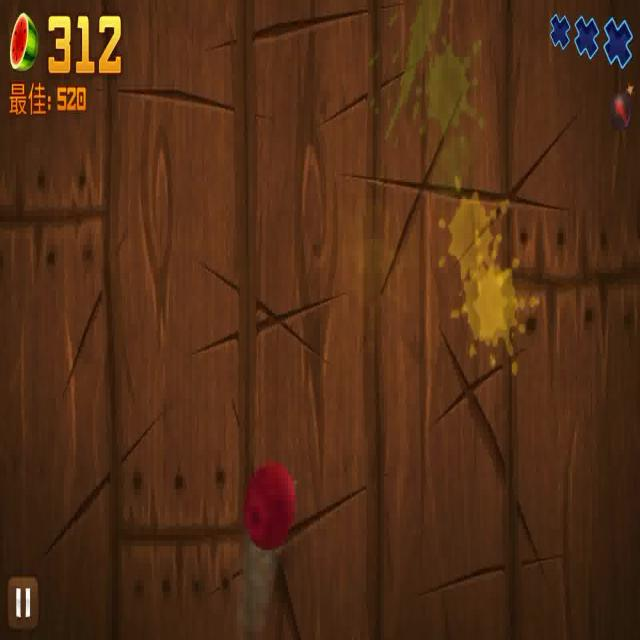fruit: (238, 461, 298, 554)
